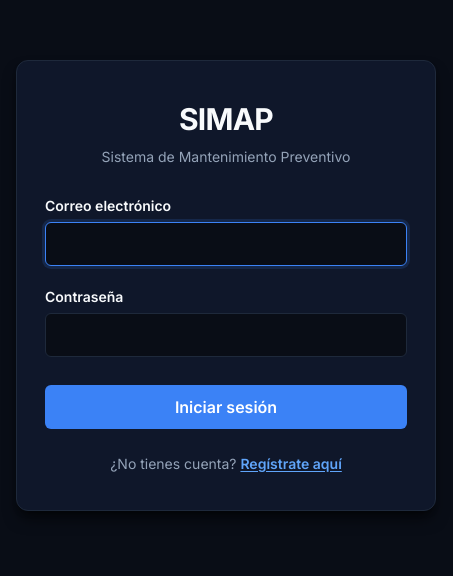
Test case: LoginPage › muestra alerta accesible de error 401 si las credenciales son incorrectas
Type "usuario@desconocido.cl" into the field labelled "Correo electrónico" at [226, 244], box [45, 222, 407, 266]
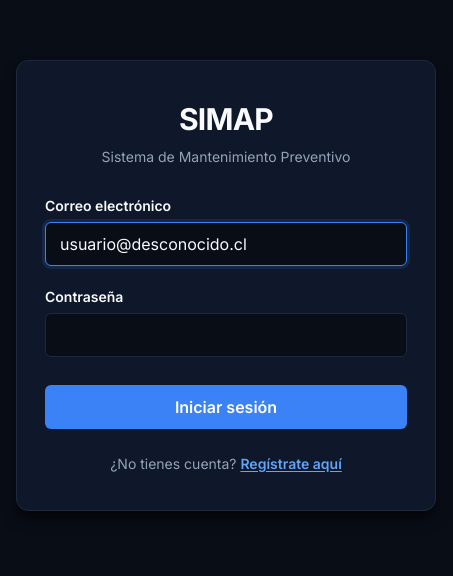
Type "clave-erronea" into the password field labelled "Contraseña" at [226, 334], box [45, 312, 407, 356]
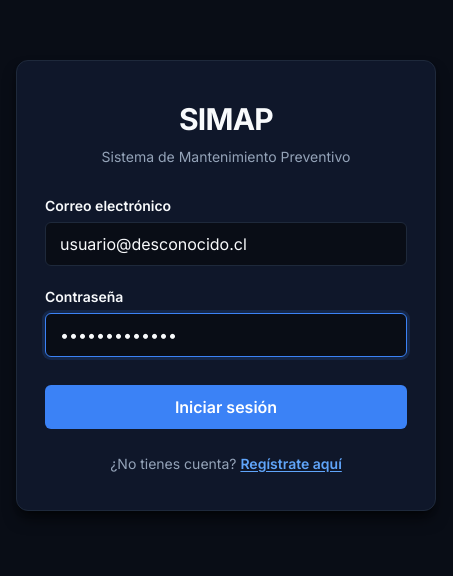
Click the button "Iniciar sesión" at [226, 406], box [45, 384, 407, 428]
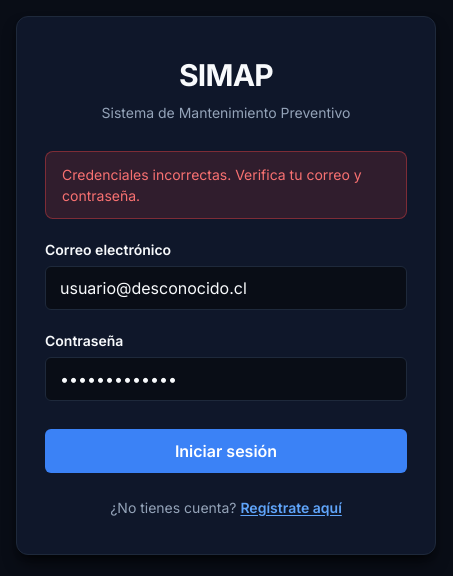
Expected: the message "Credenciales incorrectas. Verifica tu correo y contraseña." is shown, [45, 150, 407, 218]
Expected: the message shows "Credenciales incorrectas", [62, 166, 362, 204]
